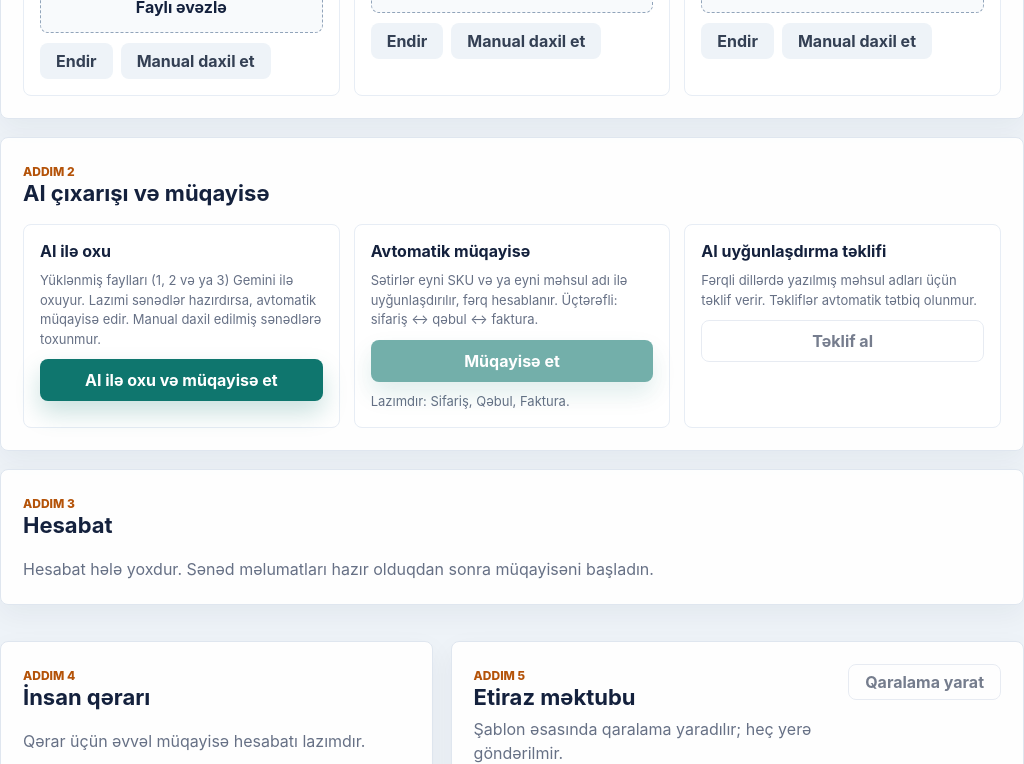
Test: AI oxuma və avtomatik müqayisə › bütün sənədlər oxunanda müqayisəni avtomatik aparır
(page scrolled)
Click the button "AI ilə oxu və müqayisə et".
click(181, 380)  # box [40,359,323,401]
(page scrolled)
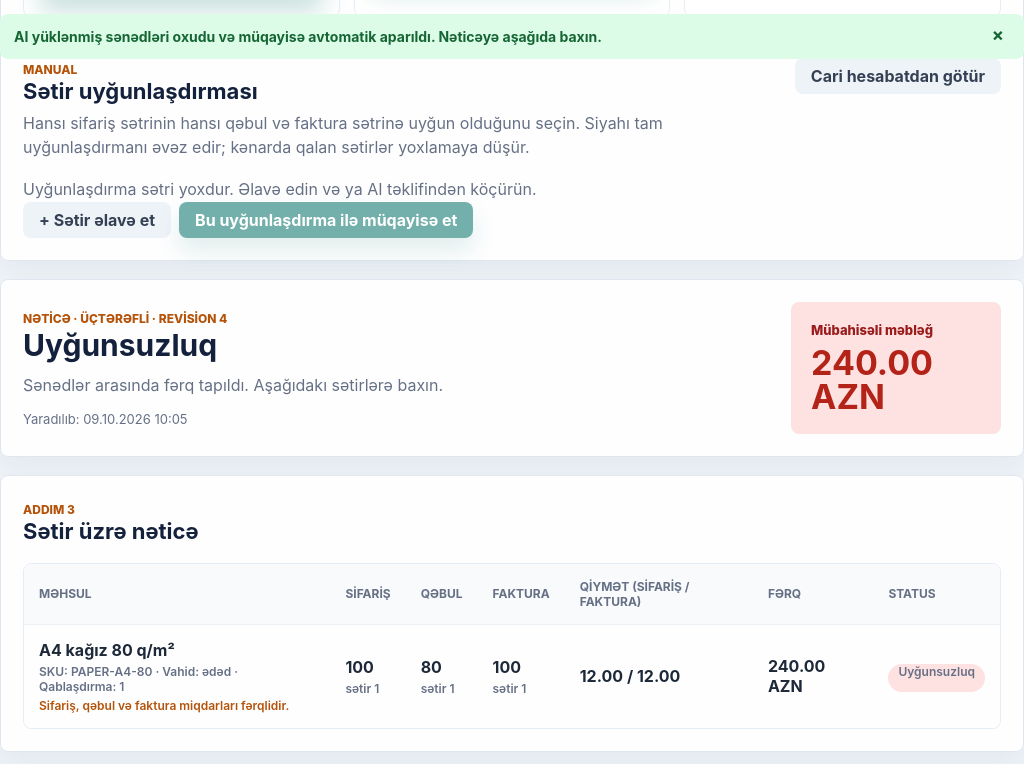
expect the message with class "notice" is shown: met, box [0,14,1023,59]
expect the message with class "notice" shows "AI yüklənmiş sənədləri oxudu və müqayisə avtomatik aparıldı.": met, box [14,28,602,45]
expect the heading "Uyğunsuzluq" is shown: met, box [23,327,217,363]
